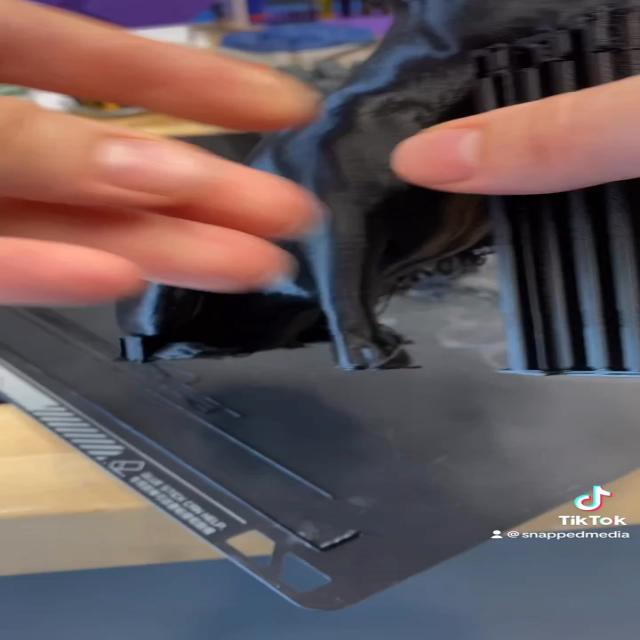spaghetti: (376, 238, 510, 316)
